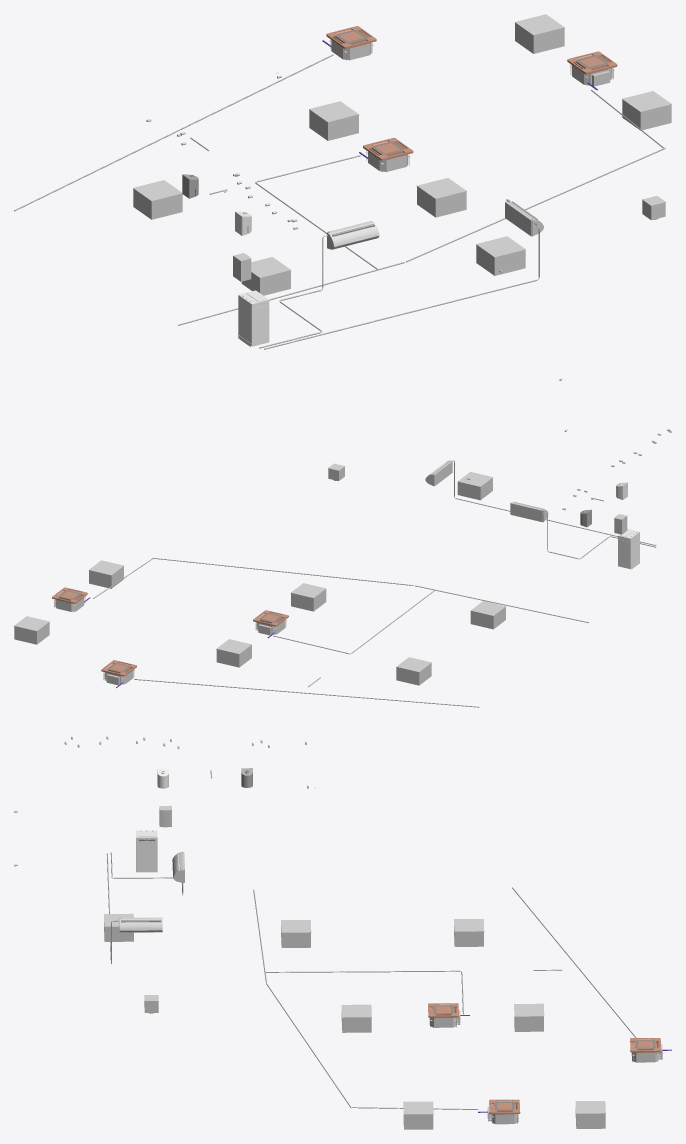
The model's file is Step 5 Alexa-Klima.fbx.
3 renders of one model, top to bottom at view 1: azimuth 30°, elevation 25°; view 2: azimuth 150°, elevation 25°; view 3: azimuth 270°, elevation 25°, orthographic. The views are drawn at different scales.
Parts seen in each view (by area): view 1: Drallauslass Zuluft oben.001, HC_Air Conditioner_Indoor Unit_F_MEPcontent_Mitsubishi _318, Pipes, Wandgerät Split.001, HC_Boiler_MEPcontent_Viessmann_Vitodens 200W WB2B.001, Papierspender rund.001; view 2: Drallauslass Zuluft oben.001, Pipes, HC_Air Conditioner_Indoor Unit_F_MEPcontent_Mitsubishi _318, Wandgerät Split.001, HC_Boiler_MEPcontent_Viessmann_Vitodens 200W WB2B.001; view 3: Drallauslass Zuluft oben.001, HC_Air Conditioner_Indoor Unit_F_MEPcontent_Mitsubishi _318, Pipes, Wandgerät Split.001, HC_Boiler_MEPcontent_Viessmann_Vitodens 200W WB2B.001.
Boxes of the visible parts, x1,y1,x2,y2 form: Drallauslass Zuluft oben.001: (133, 14, 671, 295); HC_Air Conditioner_Indoor Unit_F_MEPcontent_Mitsubishi _318: (322, 26, 617, 172); Pipes: (14, 54, 665, 349); Wandgerät Split.001: (326, 201, 544, 249); HC_Boiler_MEPcontent_Viessmann_Vitodens 200W WB2B.001: (238, 290, 269, 346); Papierspender rund.001: (182, 174, 251, 235); Drallauslass Zuluft oben.001: (14, 472, 505, 685); Pipes: (93, 460, 656, 707); HC_Air Conditioner_Indoor Unit_F_MEPcontent_Mitsubishi _318: (52, 587, 288, 687); Wandgerät Split.001: (425, 460, 548, 522); HC_Boiler_MEPcontent_Viessmann_Vitodens 200W WB2B.001: (618, 529, 639, 569); Drallauslass Zuluft oben.001: (104, 913, 605, 1129); HC_Air Conditioner_Indoor Unit_F_MEPcontent_Mitsubishi _318: (428, 1003, 671, 1124); Pipes: (106, 770, 636, 1109); Wandgerät Split.001: (118, 851, 184, 932); HC_Boiler_MEPcontent_Viessmann_Vitodens 200W WB2B.001: (136, 830, 157, 872).
Size of the model in its own units: 1373 by 382 by 1165.
